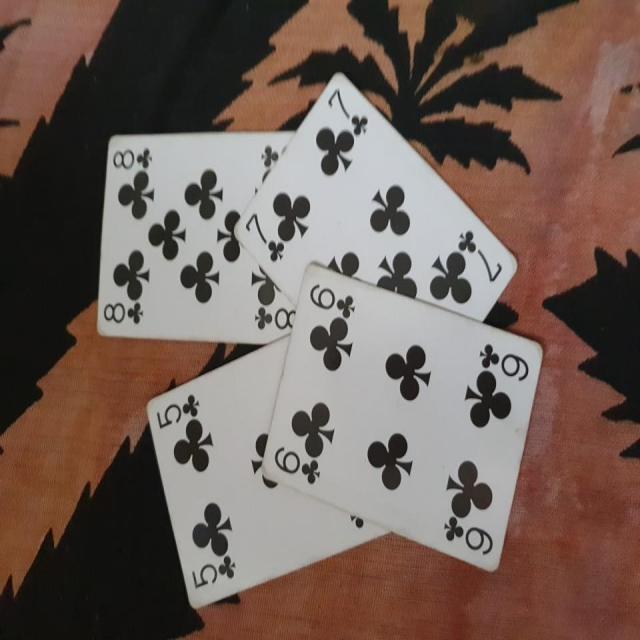5 Trefoils: (142, 333, 395, 615)
6 Trefoils: (260, 262, 545, 572)
7 Trefoils: (233, 69, 520, 318)
8 Trefoils: (95, 130, 296, 342)
